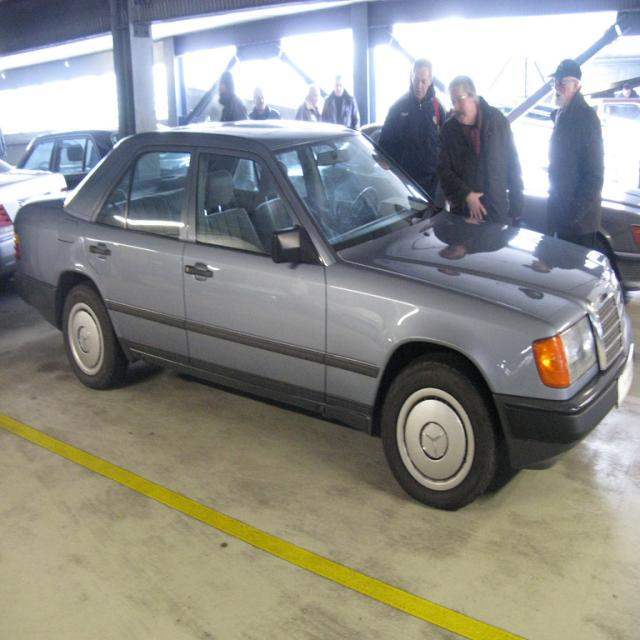car: (10, 110, 634, 510)
